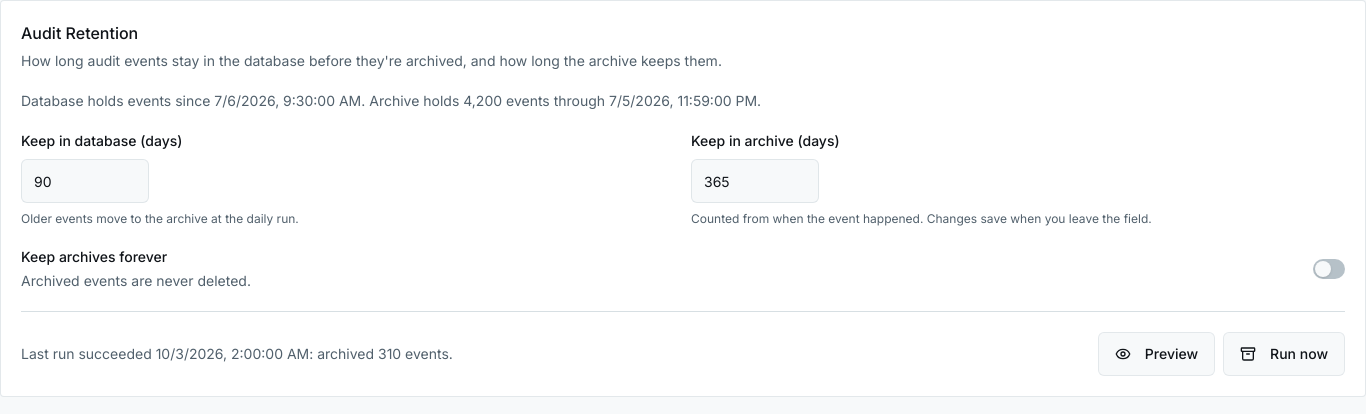
Scenario: AuditRetentionSettings › shows why a preview failed
expect the number field labelled "Keep in database (days)" is enabled: met, box [21,159,149,203]
Click the button "Preview": (1156, 354) [1098,332,1215,376]
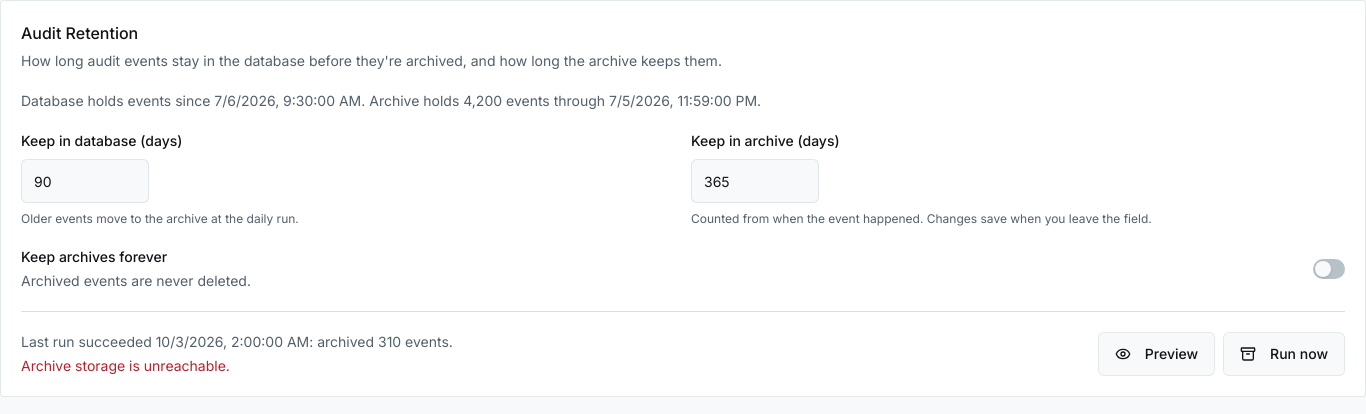
expect the message reads "Archive storage is unreachable.": met, box [21,357,230,374]
